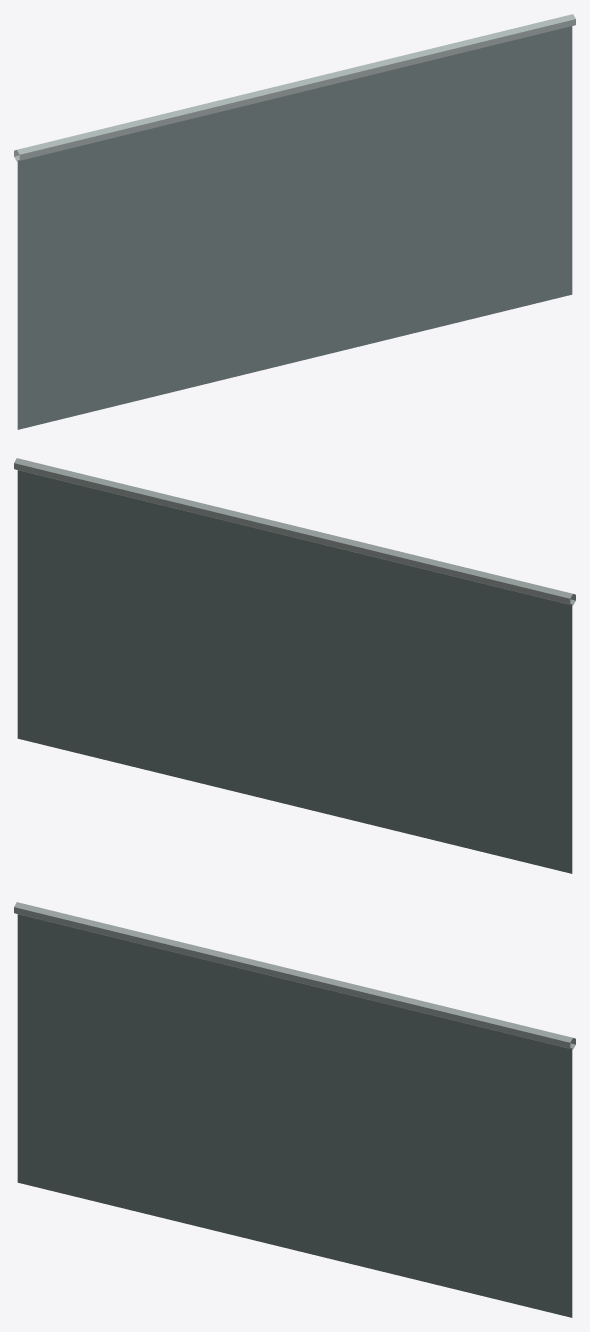
The model's file is chain_link_span.glb.
3 renders of one model, top to bottom at view 1: azimuth 30°, elevation 25°; view 2: azimuth 150°, elevation 25°; view 3: azimuth 330°, elevation 25°, orthographic.
Visible parts, largest first — view 1: chain_link_span; view 2: chain_link_span; view 3: chain_link_span.
Part boxes in pixels (x1,y1,x2,y2): chain_link_span: (14, 14, 575, 429); chain_link_span: (14, 458, 575, 873); chain_link_span: (14, 902, 575, 1317).
Size of the model in its own units: 2.34 by 1.13 by 0.0416.
Materials: 2 (1 with a texture image).
